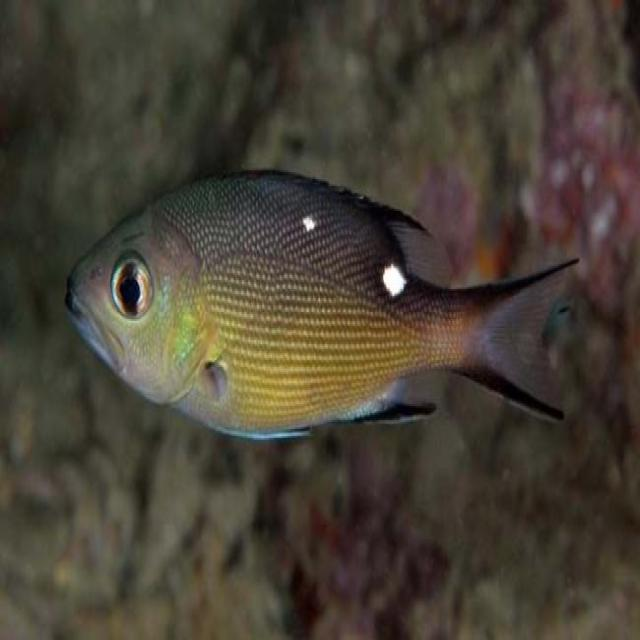ikan: (63, 165, 580, 441)
